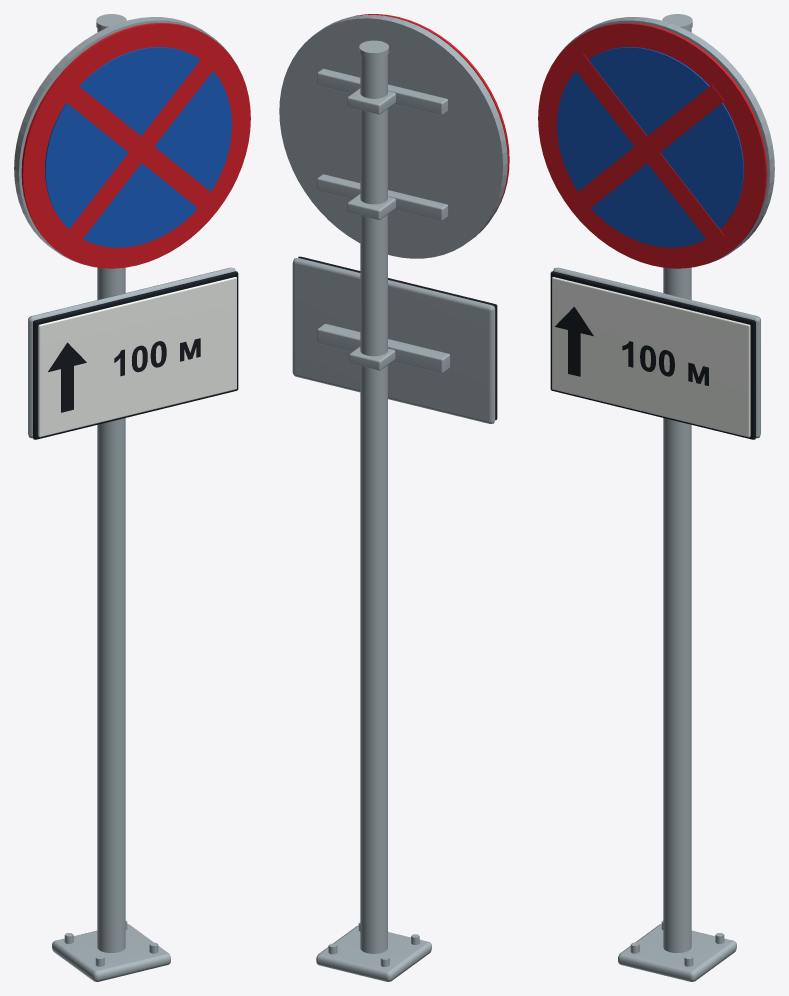
Rendered from DS_Sign_NoStopping_Zone100.fbx.
The picture shows the model from 3 angles, left to right: view 1: azimuth 30°, elevation 25°; view 2: azimuth 150°, elevation 25°; view 3: azimuth 330°, elevation 25°; orthographic projection. The views are drawn at different scales.
Parts seen in each view (by area): view 1: Face_Field.014, PlaqueFace.011, Post.021, Face_Border.014, ProhibitionCross0.001, ProhibitionSlash0.002, BasePlate.021, Plate_Back.027, PlaqueBorder.011, Plate_Back.028, DirectionArrow.013, Legend_100 м.004; view 2: Plate_Back.027, Post.021, Plate_Back.028, BasePlate.021, RearRail.045, RearRail.044, RearRail.043, PlaqueBorder.011, PostClamp.040, PostClamp.039, Face_Border.014, PostClamp.041; view 3: Face_Field.014, PlaqueFace.011, Post.021, Face_Border.014, ProhibitionCross0.001, ProhibitionSlash0.002, BasePlate.021, Plate_Back.027, PlaqueBorder.011, Plate_Back.028, DirectionArrow.013, Legend_100 м.004.
Boxes of the visible parts, left/top/right/bottom form: Face_Field.014: left=45, top=47, right=231, bottom=247; PlaqueFace.011: left=38, top=277, right=236, bottom=437; Post.021: left=97, top=28, right=125, bottom=952; Face_Border.014: left=21, top=23, right=250, bottom=268; ProhibitionCross0.001: left=64, top=53, right=218, bottom=245; ProhibitionSlash0.002: left=64, top=85, right=218, bottom=213; BasePlate.021: left=52, top=924, right=170, bottom=981; Plate_Back.027: left=14, top=17, right=230, bottom=263; PlaqueBorder.011: left=33, top=271, right=238, bottom=439; Plate_Back.028: left=28, top=267, right=235, bottom=438; DirectionArrow.013: left=48, top=342, right=86, bottom=412; Legend_100 м.004: left=114, top=338, right=200, bottom=376; Plate_Back.027: left=279, top=15, right=507, bottom=258; Post.021: left=360, top=55, right=387, bottom=953; Plate_Back.028: left=292, top=258, right=495, bottom=423; BasePlate.021: left=316, top=925, right=431, bottom=981; RearRail.045: left=317, top=323, right=450, bottom=373; RearRail.044: left=317, top=68, right=448, bottom=115; RearRail.043: left=317, top=174, right=448, bottom=220; PlaqueBorder.011: left=298, top=256, right=497, bottom=420; PostClamp.040: left=347, top=88, right=395, bottom=114; PostClamp.039: left=347, top=194, right=395, bottom=219; Face_Border.014: left=354, top=14, right=509, bottom=212; PostClamp.041: left=349, top=346, right=395, bottom=370; Face_Field.014: left=557, top=47, right=743, bottom=247; PlaqueFace.011: left=552, top=277, right=750, bottom=437; Post.021: left=663, top=28, right=691, bottom=952; Face_Border.014: left=538, top=23, right=767, bottom=268; ProhibitionCross0.001: left=570, top=85, right=724, bottom=213; ProhibitionSlash0.002: left=570, top=53, right=724, bottom=245; BasePlate.021: left=618, top=924, right=736, bottom=981; Plate_Back.027: left=558, top=17, right=774, bottom=263; PlaqueBorder.011: left=550, top=271, right=755, bottom=439; Plate_Back.028: left=553, top=267, right=760, bottom=438; DirectionArrow.013: left=555, top=306, right=593, bottom=376; Legend_100 м.004: left=622, top=341, right=708, bottom=385.
Size of the model in its own units: 71 by 281 by 28.1.
